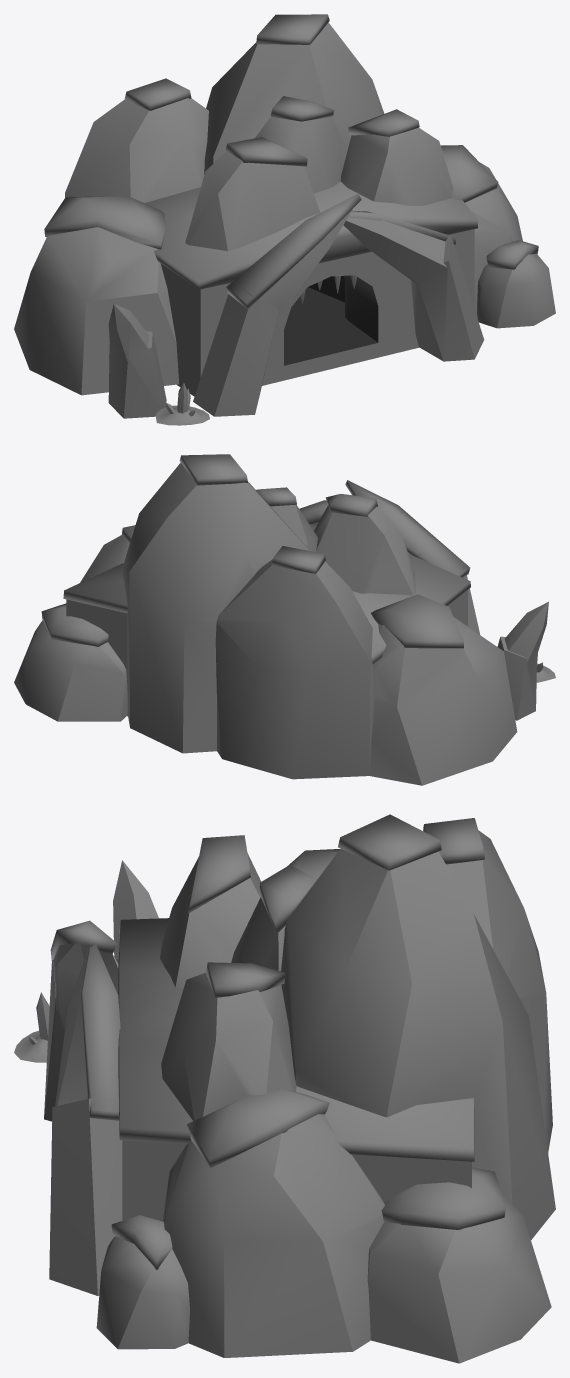
Rendered from cave_snow_B_blue.fbx.
The picture shows the model from 3 angles, top to bottom: view 1: azimuth 30°, elevation 25°; view 2: azimuth 150°, elevation 25°; view 3: azimuth 270°, elevation 25°; orthographic projection. The views are drawn at different scales.
Visible parts, largest first — view 1: cave_snow_B_blue; view 2: cave_snow_B_blue; view 3: cave_snow_B_blue.
Boxes of the visible parts, x1,y1,x2,y2 form: cave_snow_B_blue: [14, 14, 555, 425]; cave_snow_B_blue: [14, 454, 555, 785]; cave_snow_B_blue: [14, 814, 555, 1363].
Bounding box in the file's own units: 13.04 × 7.09 × 8.76.
